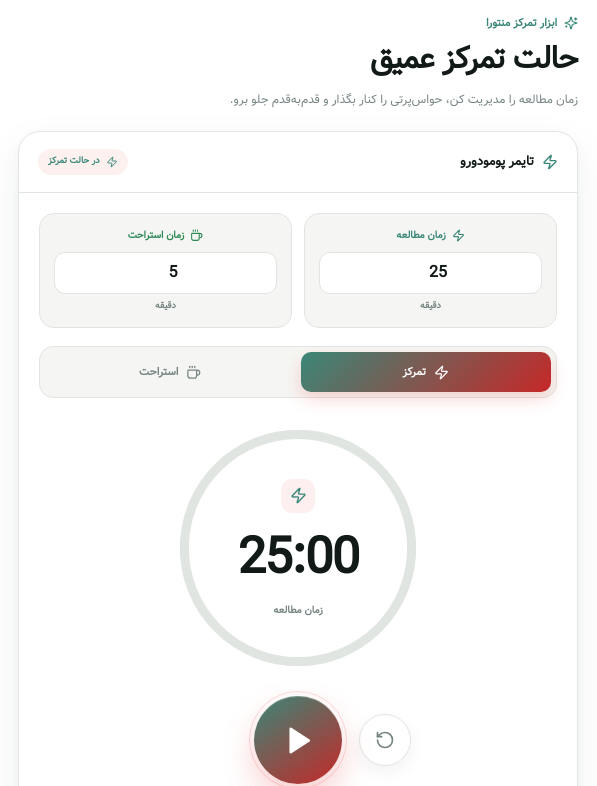
leaving the timer records elapsed focus once
Click the button named "شروع تایمر": (298,740) [254,696,342,784]
Wait 1000 ms
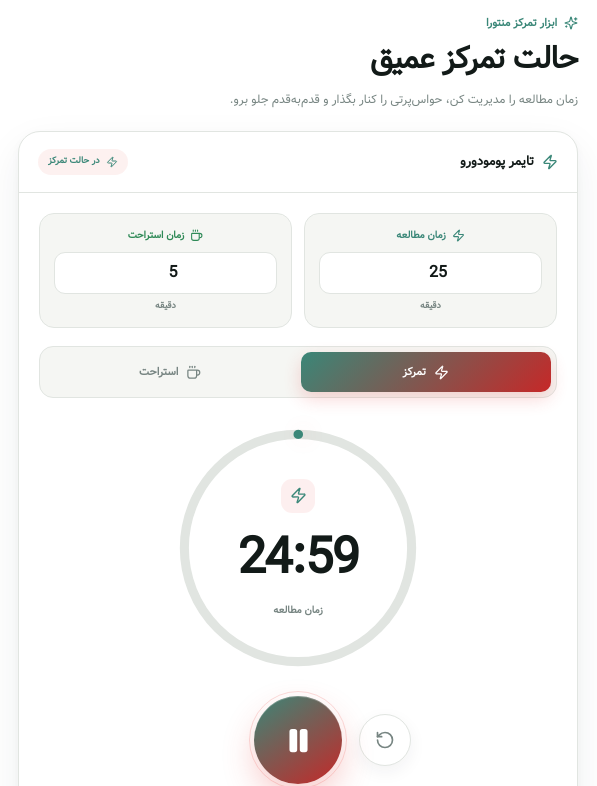
Now the text "24:59" is shown, box [238,532,358,589]
